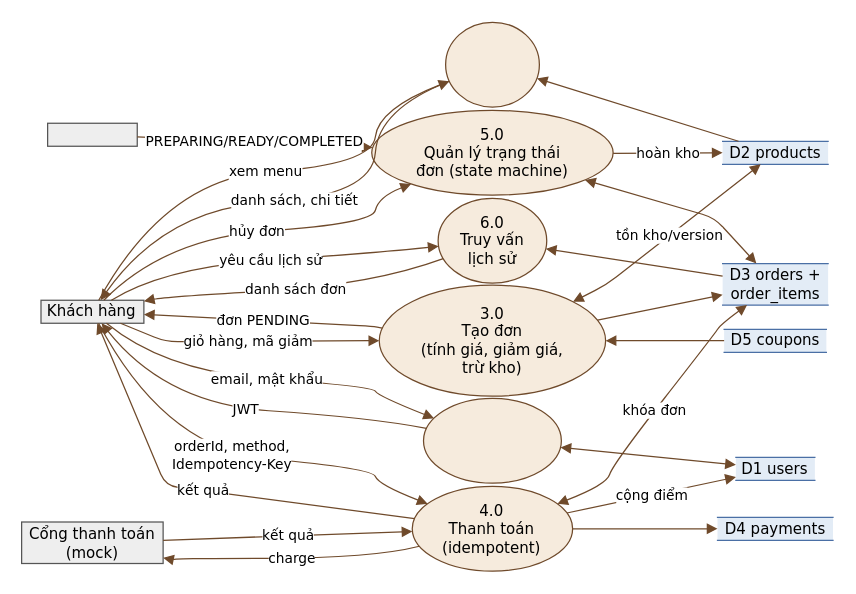
The diagram is 856 pixels wide and 594 high, and some of its shapes have lost their labels. Here are the shapes that lost their labels. From the top down, the centre of each, then its label:
At [491,64]: "2.0 Tra cứu menu".
At [91,134]: "Nhân viên".
At [491,440]: "1.0 Xác thực người dùng".
